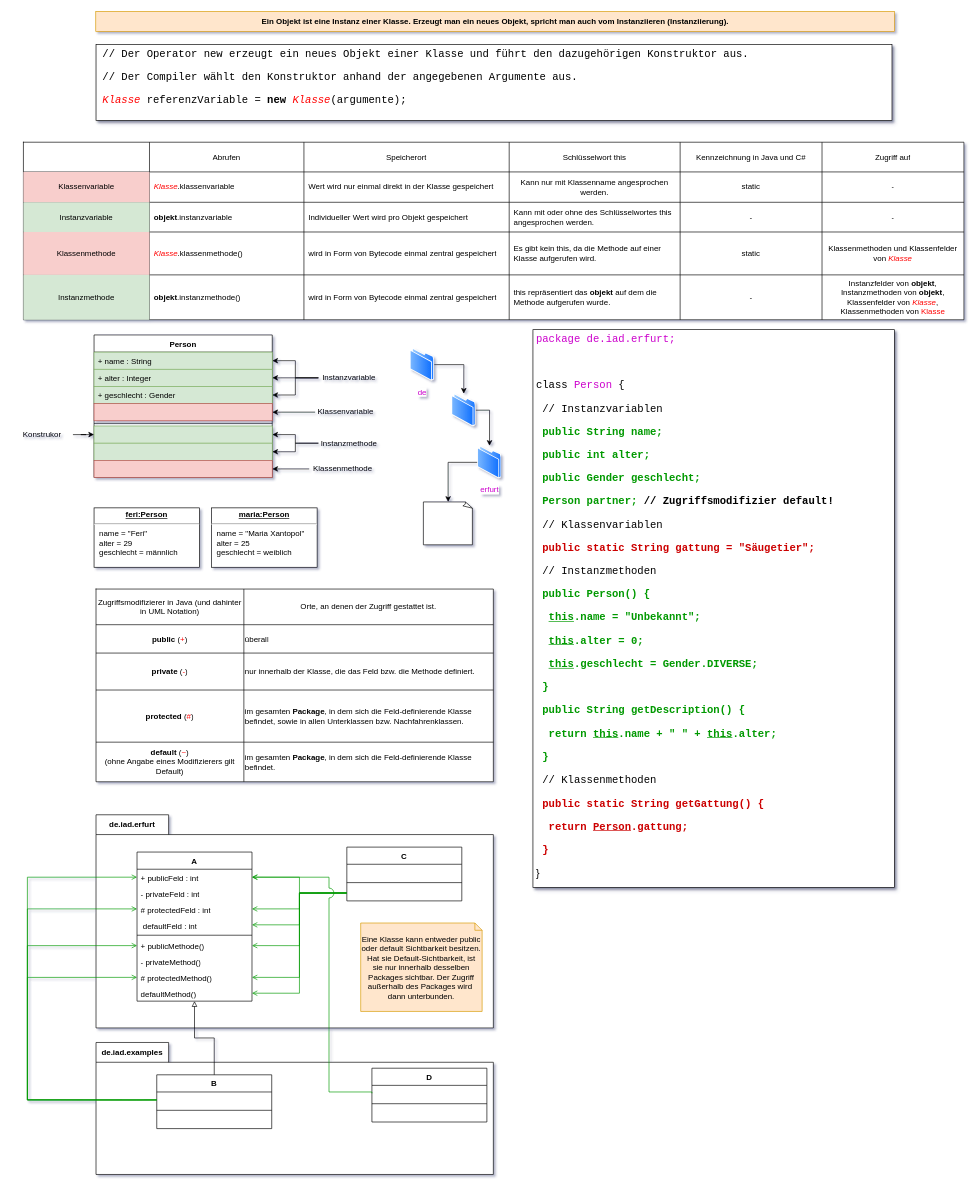
Some shapes in this 979 by 1190 pixel diagram are drawn without their labels. Each missing label, with the centre of its shape:
+ gattung : String = "Säugetier": point (182, 412)
+ getDescription() : String: point (182, 451)
+ getGattung() : String: point (182, 469)
+ Person(): point (182, 434)
iad: point (463, 409)
Person.java: point (448, 523)
